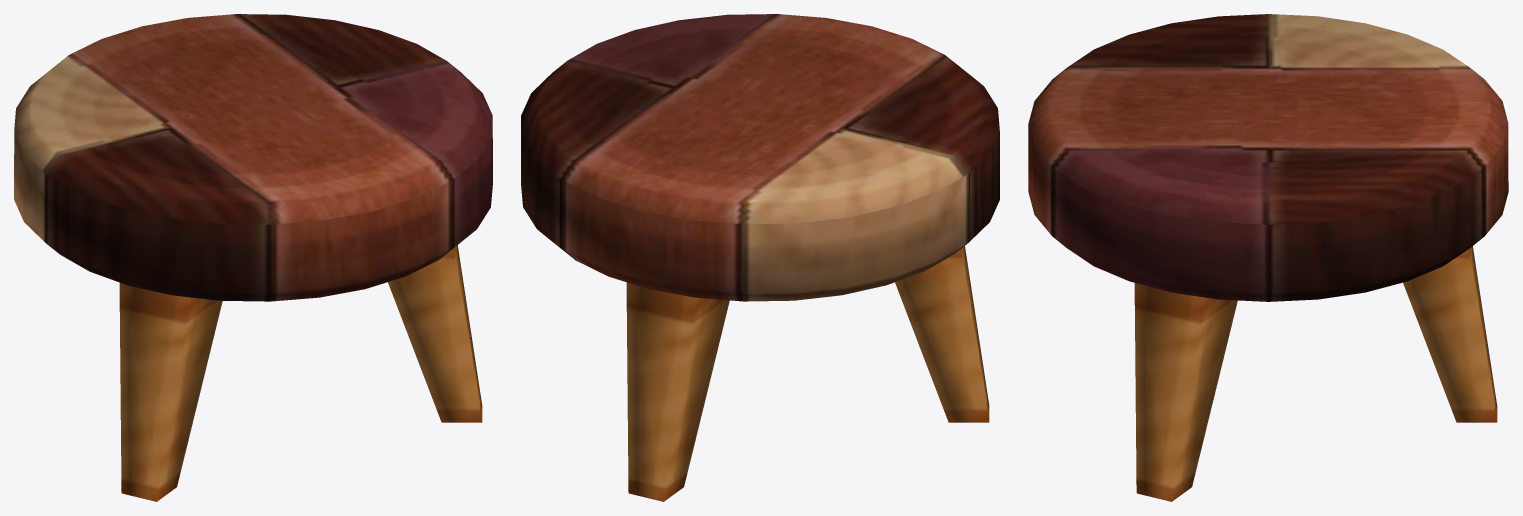
The model's file is rmk_mxw_stool.dae.
The picture shows the model from 3 angles, left to right: view 1: azimuth 30°, elevation 25°; view 2: azimuth 150°, elevation 25°; view 3: azimuth 270°, elevation 25°; orthographic projection.
Parts seen in each view (by area): view 1: rmk_mxw_stool; view 2: rmk_mxw_stool; view 3: rmk_mxw_stool.
Part boxes in pixels (x1=…): rmk_mxw_stool: x1=14, y1=14, x2=492, y2=501; rmk_mxw_stool: x1=521, y1=14, x2=999, y2=501; rmk_mxw_stool: x1=1028, y1=14, x2=1508, y2=501.
Size of the model in its own units: 22.67 by 15.94 by 22.67.
1 material, 1 textured.
